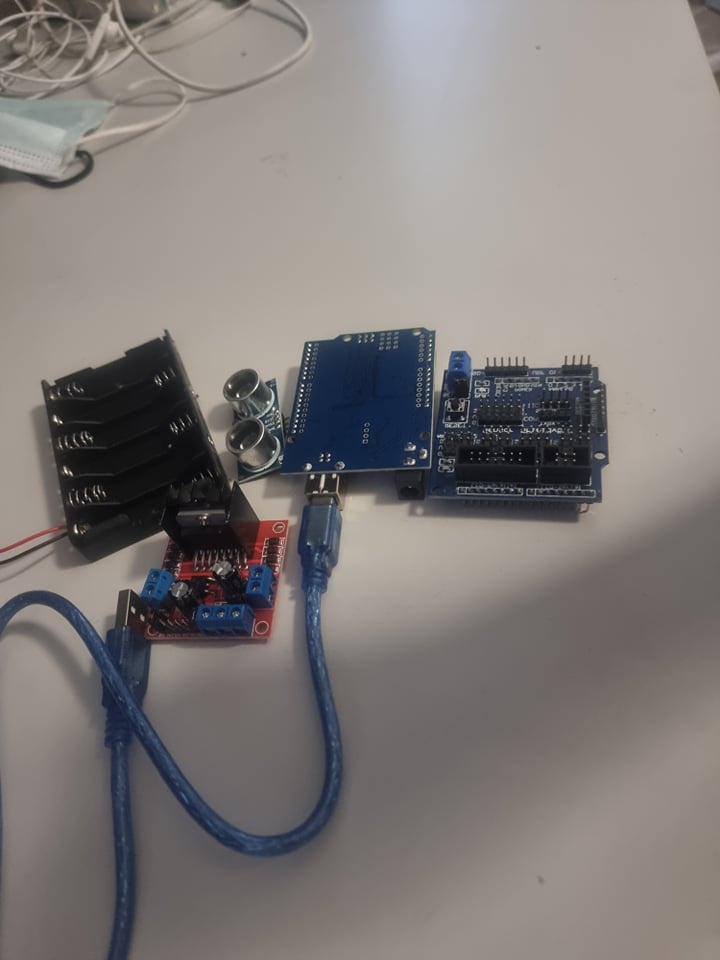5V EXPANSION: (432, 351, 615, 510)
BATTERY BOX: (60, 320, 209, 563)
MOTOR: (127, 486, 284, 653)
